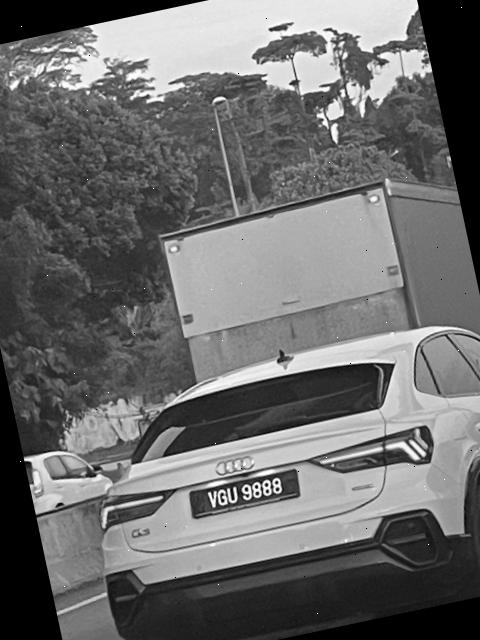License_Plate: (197, 470, 295, 516)
car: (58, 309, 480, 640)
